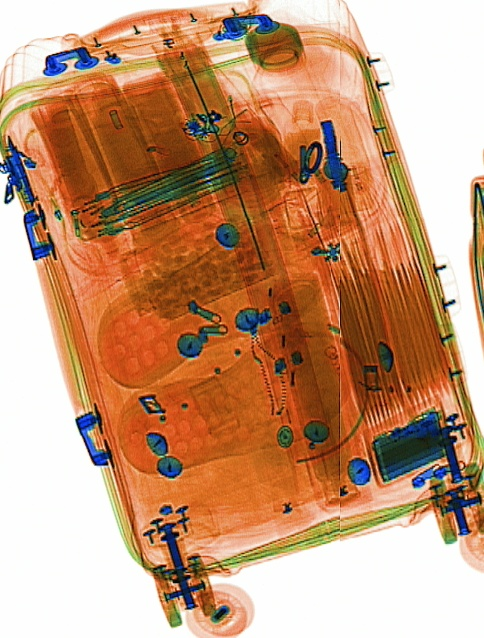powerbank: (360, 391, 455, 487)
